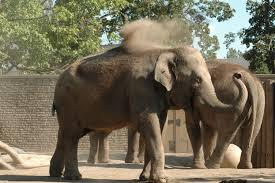elephant: (50, 19, 264, 182)
